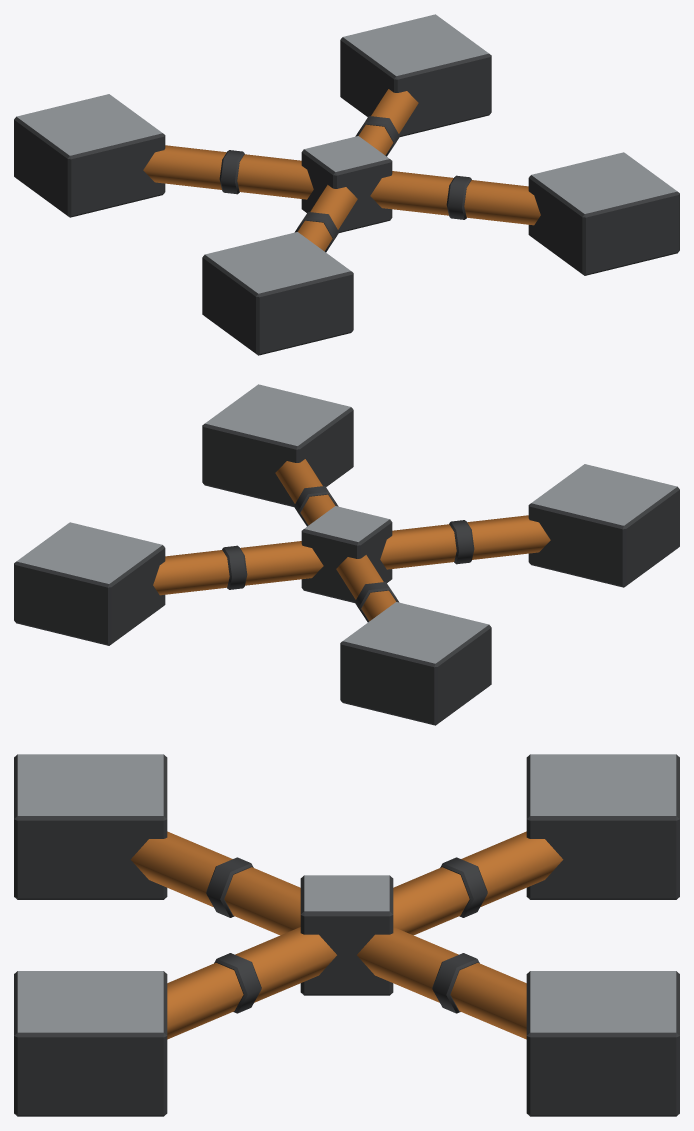
Rendered from R4C_ROD_CROSS_LOD1.fbx.
3 renders of one model, top to bottom at view 1: azimuth 30°, elevation 25°; view 2: azimuth 150°, elevation 25°; view 3: azimuth 270°, elevation 25°, orthographic. The views are drawn at different scales.
Visible parts, largest first — view 1: R4C_ROD_CROSS_LOD1; view 2: R4C_ROD_CROSS_LOD1; view 3: R4C_ROD_CROSS_LOD1.
Boxes of the visible parts, x1,y1,x2,y2 form: R4C_ROD_CROSS_LOD1: (14,14,679,355); R4C_ROD_CROSS_LOD1: (14,384,679,725); R4C_ROD_CROSS_LOD1: (14,754,679,1116).
Bounding box in the file's own units: 1.62 × 0.226 × 1.62.
